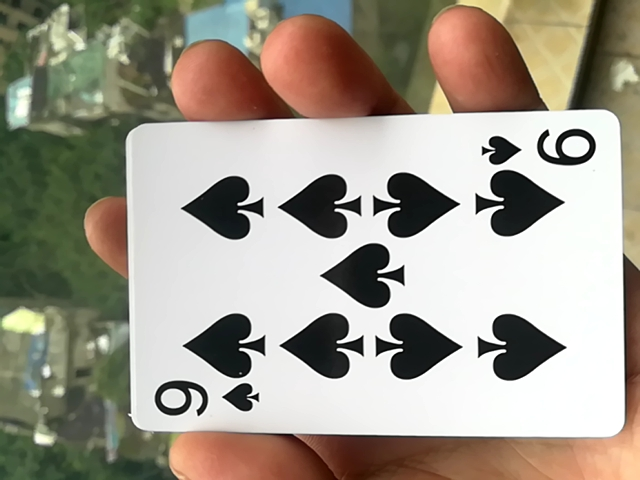ht 9: (114, 119, 623, 450)
